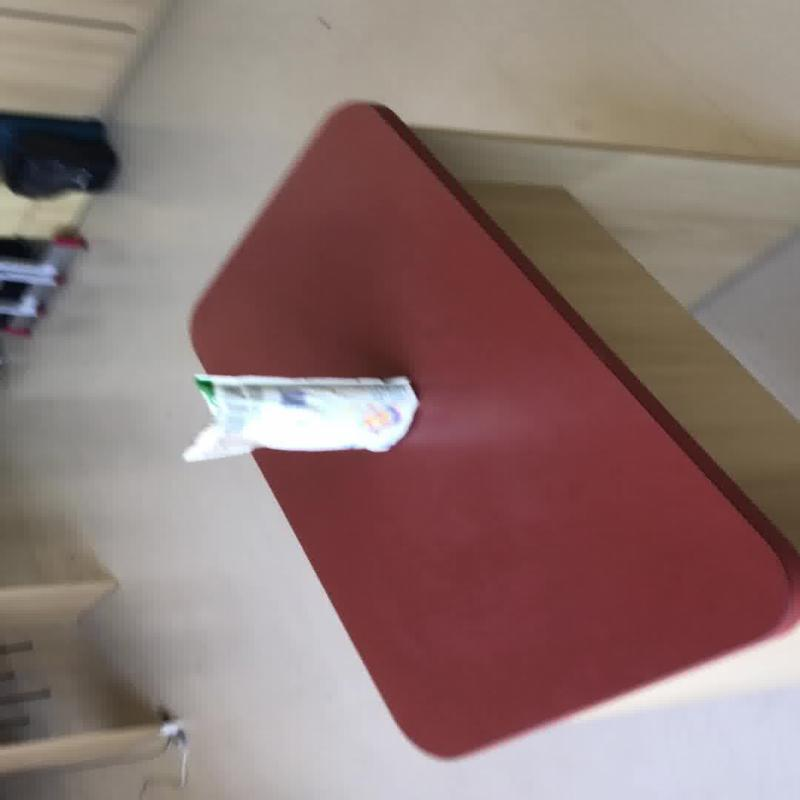corn flakes: (185, 99, 796, 758), (180, 372, 420, 462)
